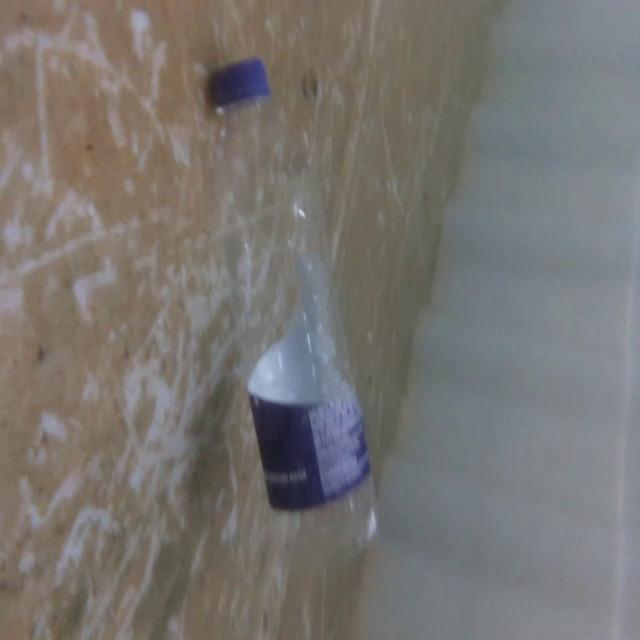plastic bottle: (183, 57, 386, 594)
